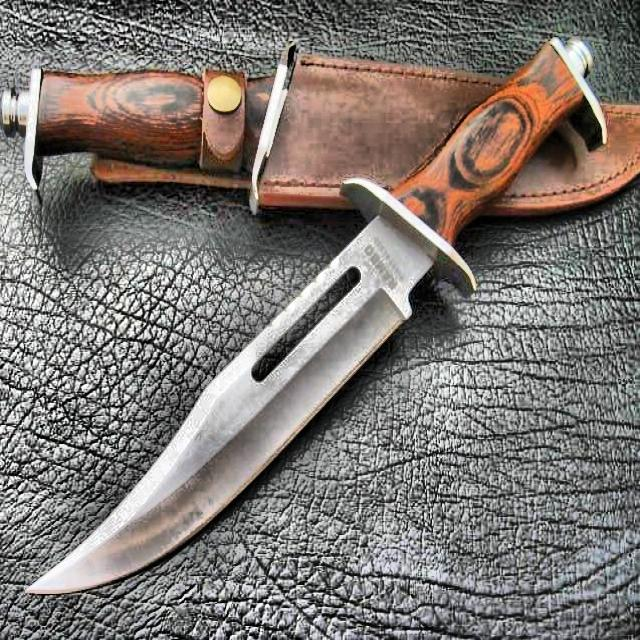knife: (29, 38, 605, 593), (2, 45, 639, 205)
